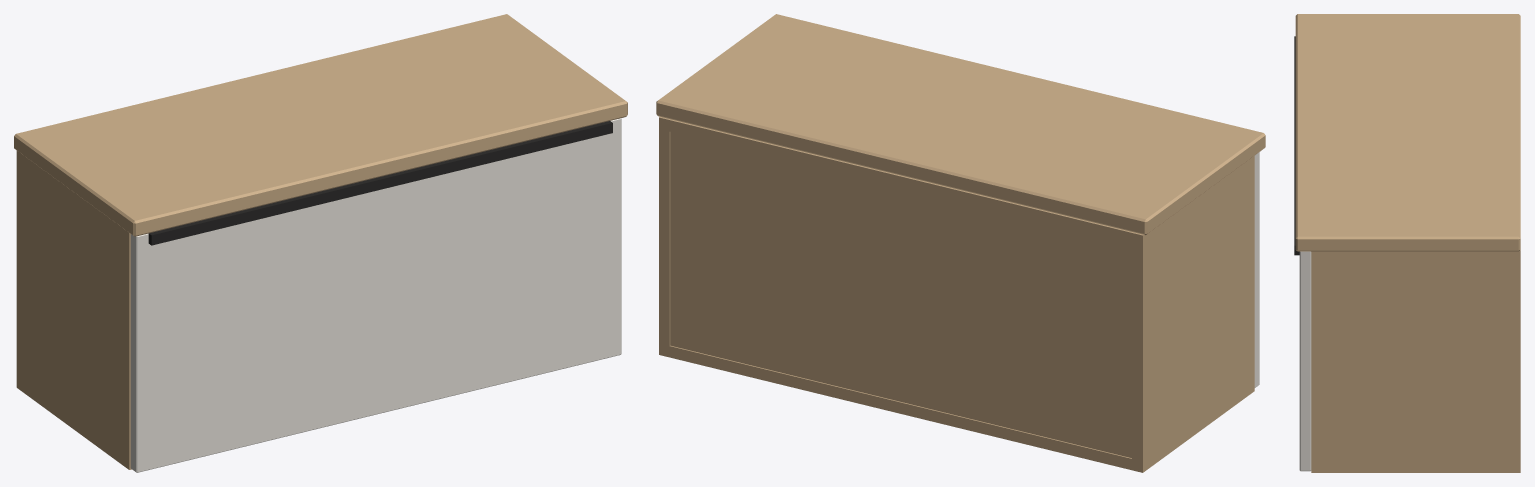
The model's file is 48_szafka_wiszaca_80_klapa.glb.
3 views of the same model, side by side, from view 1: azimuth 30°, elevation 25°; view 2: azimuth 150°, elevation 25°; view 3: azimuth 270°, elevation 25° (orthographic). The views are drawn at different scales.
Visible parts, largest first — view 1: Front_klapa_1, Wierzch, Korpus, Uchwyty; view 2: Korpus, Wierzch, Front_klapa_1; view 3: Wierzch, Korpus, Front_klapa_1, Uchwyty.
Part boxes in pixels (box(x1,y1,x2,y2)): Front_klapa_1: box(130, 118, 621, 472); Wierzch: box(14, 14, 627, 236); Korpus: box(16, 150, 131, 469); Uchwyty: box(148, 121, 612, 245); Korpus: box(659, 116, 1254, 472); Wierzch: box(656, 14, 1265, 235); Front_klapa_1: box(1254, 152, 1259, 387); Wierzch: box(1295, 14, 1520, 251); Korpus: box(1311, 250, 1520, 472); Front_klapa_1: box(1299, 251, 1311, 471); Uchwyty: box(1294, 36, 1299, 255).
Bounding box in the file's own units: 0.812 × 0.4 × 0.346.
